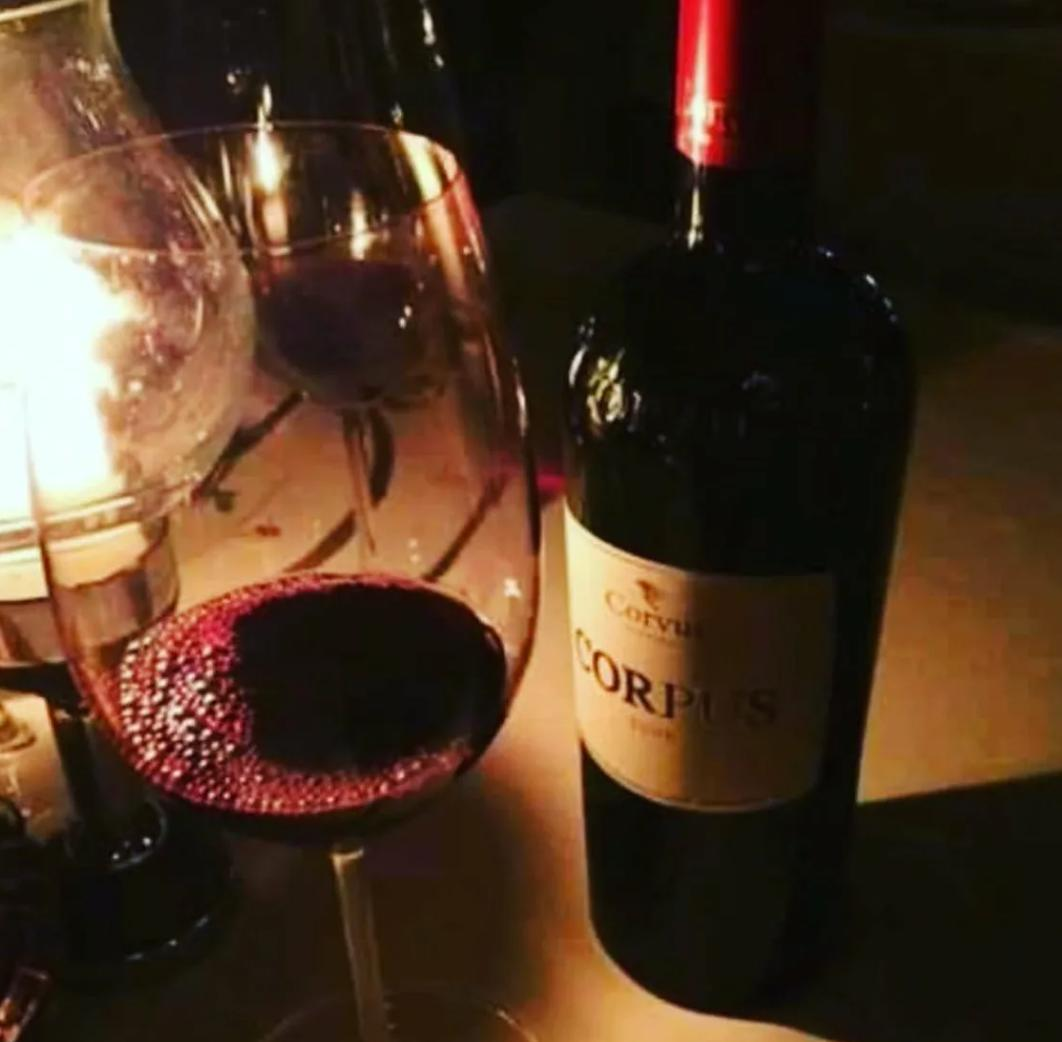wine bottle: (555, 4, 916, 1015)
wine label: (556, 499, 835, 814)
